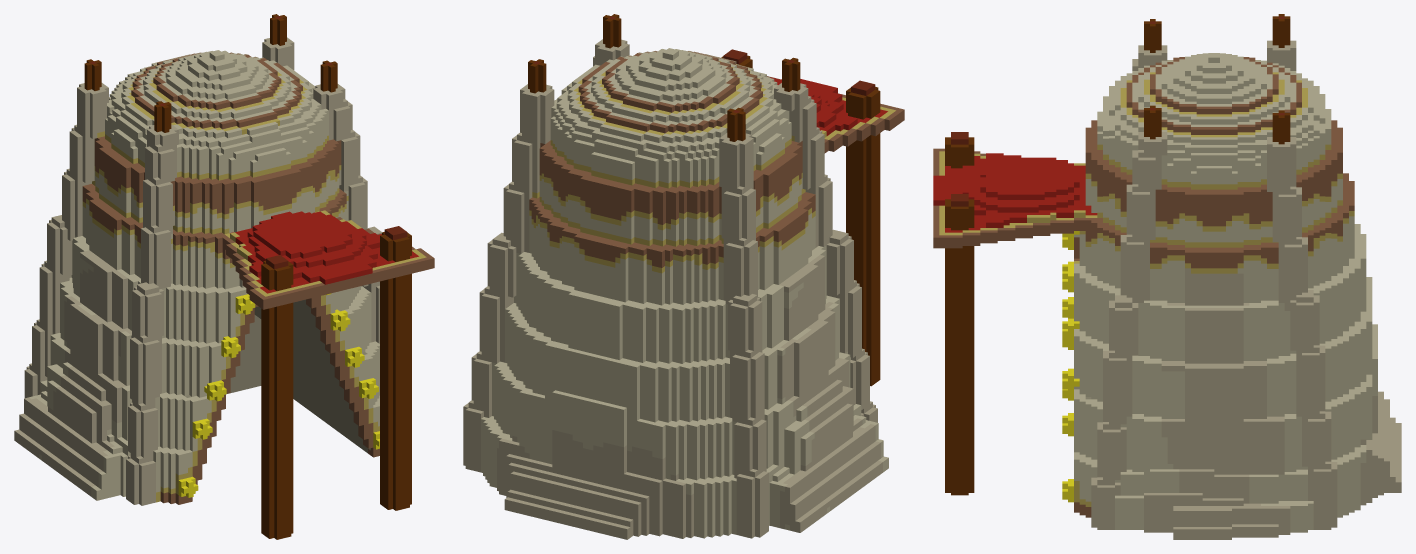
File: tent_circle.fbx
3 renders of one model, left to right at view 1: azimuth 30°, elevation 25°; view 2: azimuth 150°, elevation 25°; view 3: azimuth 270°, elevation 25°, orthographic. The views are drawn at different scales.
Visible parts, largest first — view 1: tent_circle; view 2: tent_circle; view 3: tent_circle.
Boxes of the visible parts, x1=… form: tent_circle: x1=14, y1=14, x2=434, y2=539; tent_circle: x1=463, y1=14, x2=904, y2=539; tent_circle: x1=933, y1=14, x2=1401, y2=539.
Size of the model in its own units: 670 by 800 by 760.
